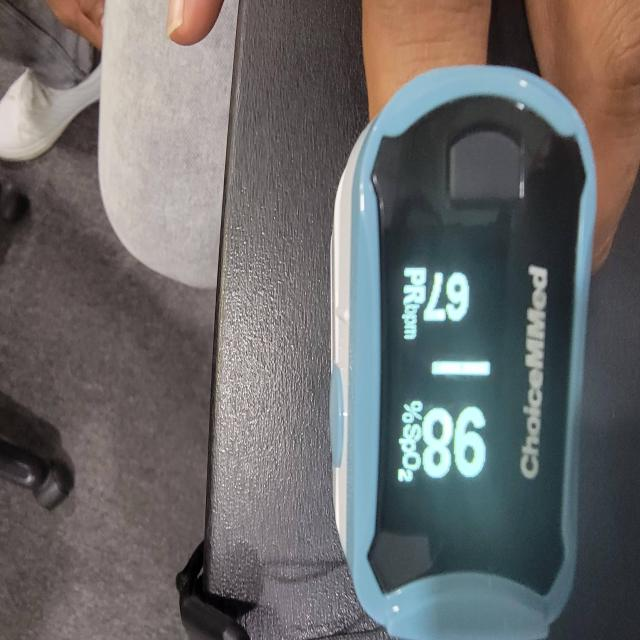spo2: (330, 65, 596, 640)
